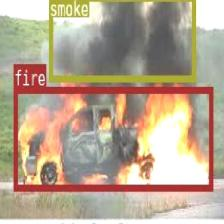fire: (13, 86, 212, 190)
smoke: (48, 0, 195, 80)
